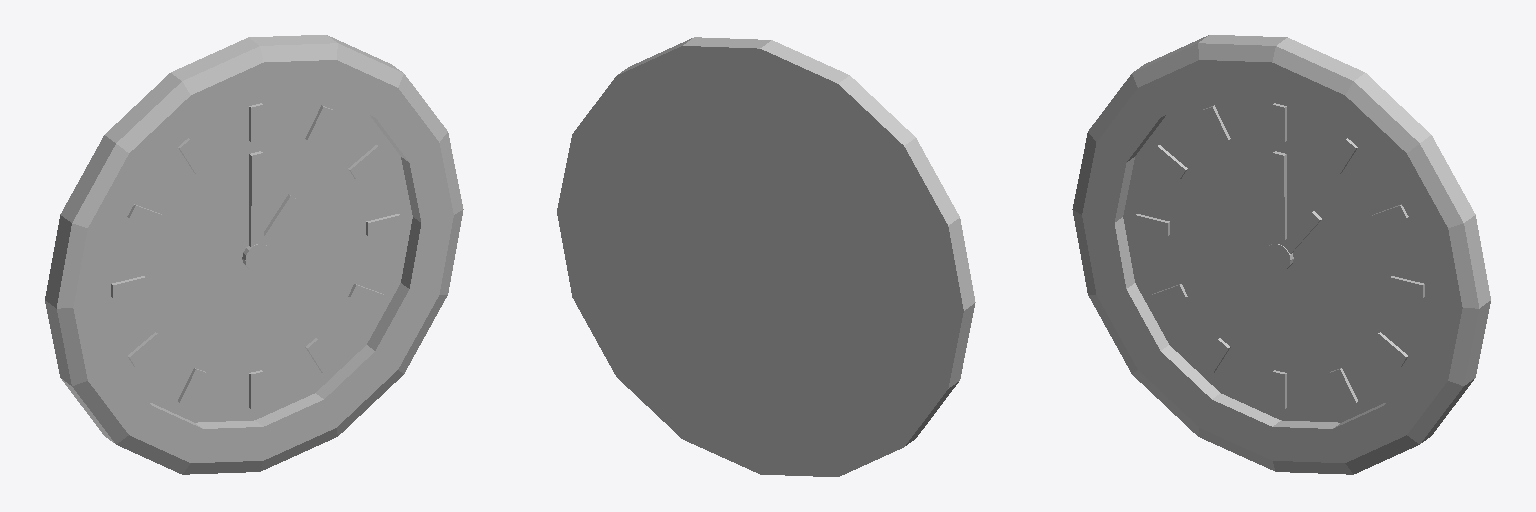
File: Analog_Clock.obj
The picture shows the model from 3 angles: view 1: azimuth 30°, elevation 25°; view 2: azimuth 150°, elevation 25°; view 3: azimuth 330°, elevation 25°; orthographic projection.
Parts seen in each view (by area): view 1: Analog_clock_Circle.001; view 2: Analog_clock_Circle.001; view 3: Analog_clock_Circle.001.
Boxes of the visible parts, box(x1,y1,x2,y2) form: Analog_clock_Circle.001: box(45, 35, 463, 474); Analog_clock_Circle.001: box(557, 37, 975, 476); Analog_clock_Circle.001: box(1072, 35, 1490, 474).
Size of the model in its own units: 10 by 10 by 0.654.